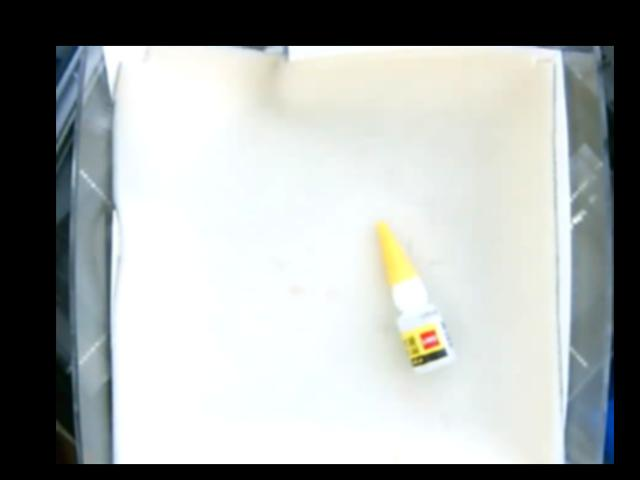Bottle: (375, 221, 452, 374)
